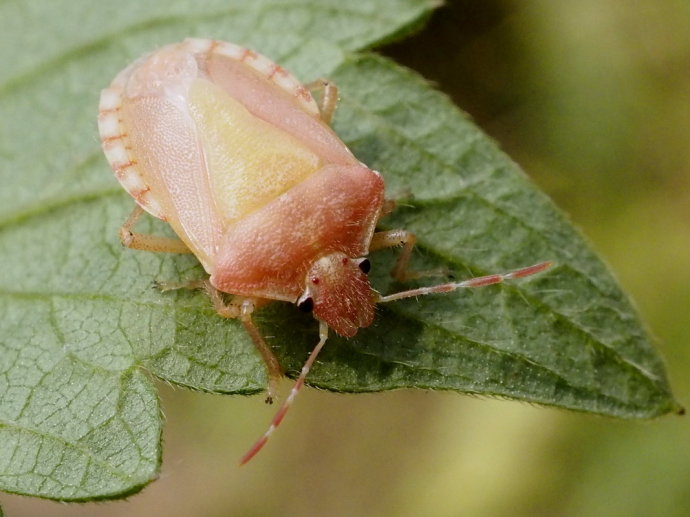chunchong: (92, 36, 403, 353)
